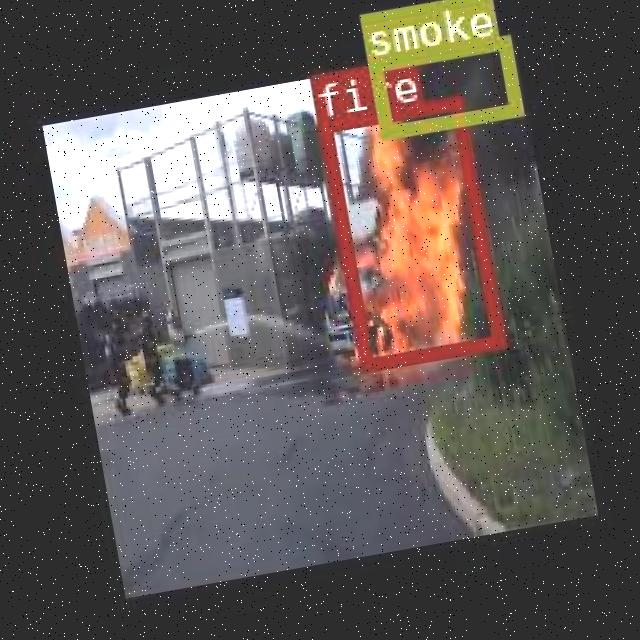fire: (316, 92, 502, 370)
smoke: (366, 34, 522, 137)
